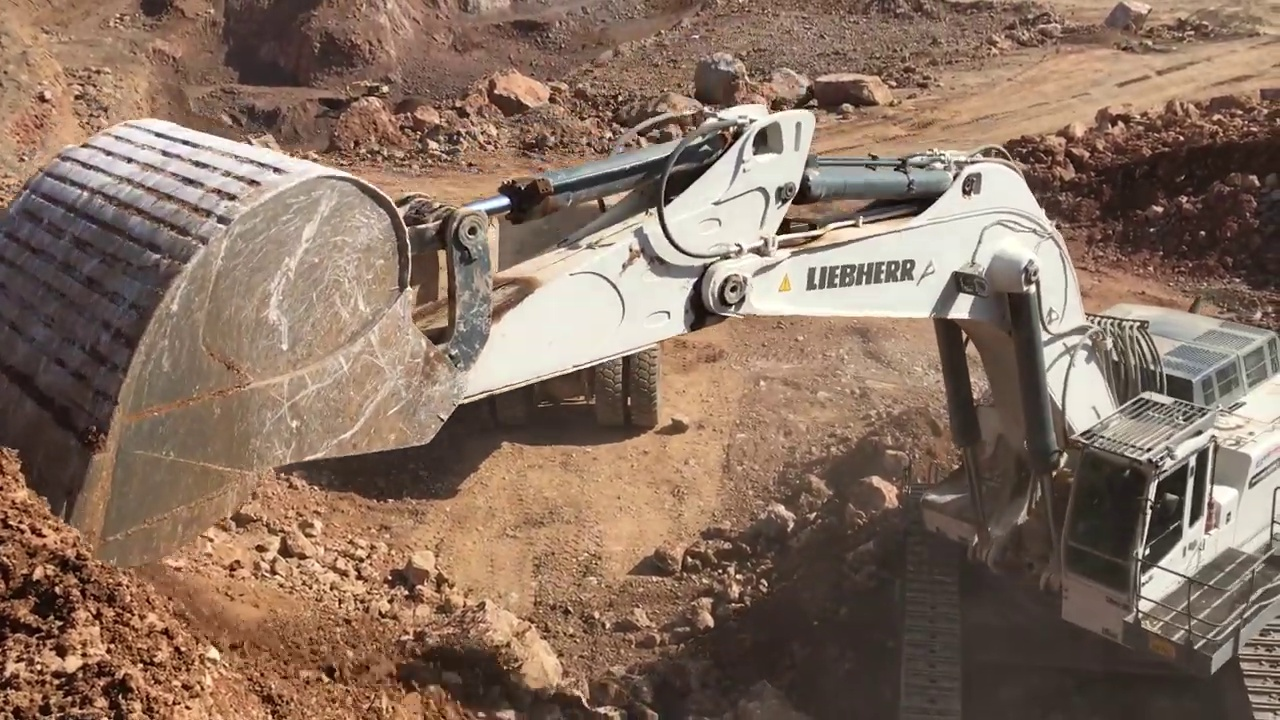excavator: (13, 103, 1277, 720)
